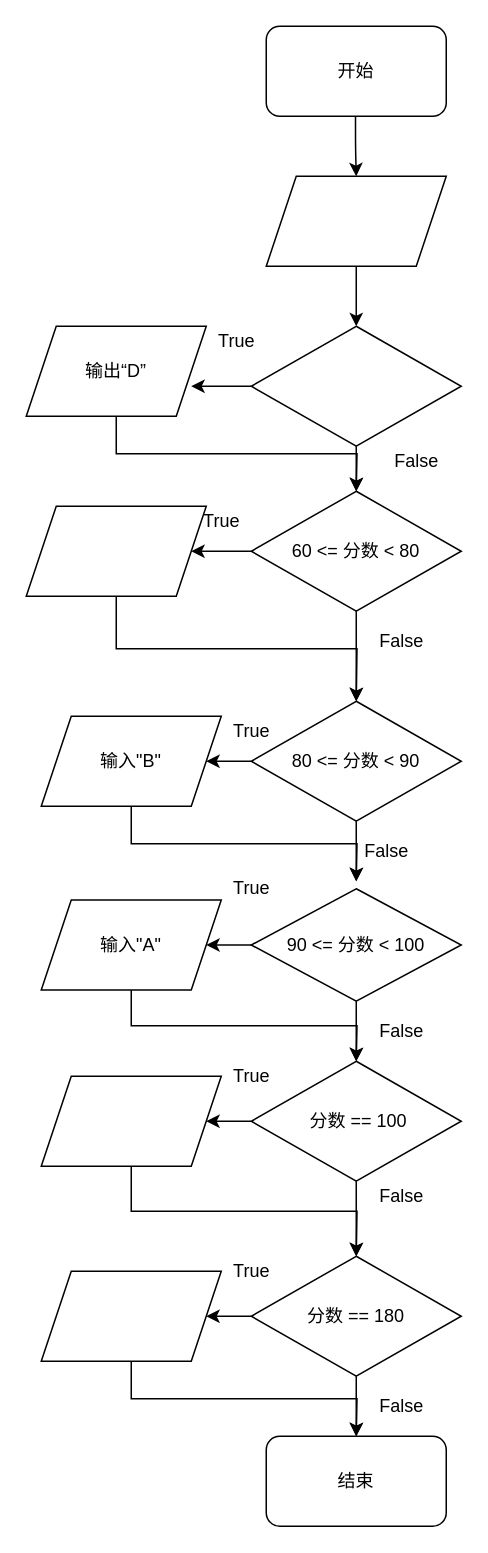
Image size: 488x1553. Some labels were removed from this diagram. The shapes that lost their labels are listed below. From the top down, each one's centre as x and y in pixels, then its label:
pixel 355 220: 输入分数
pixel 355 385: 0 <= 分数 < 60
pixel 115 550: 输入"C"
pixel 130 1120: 输入"S"
pixel 130 1315: 输入"SSS++"
